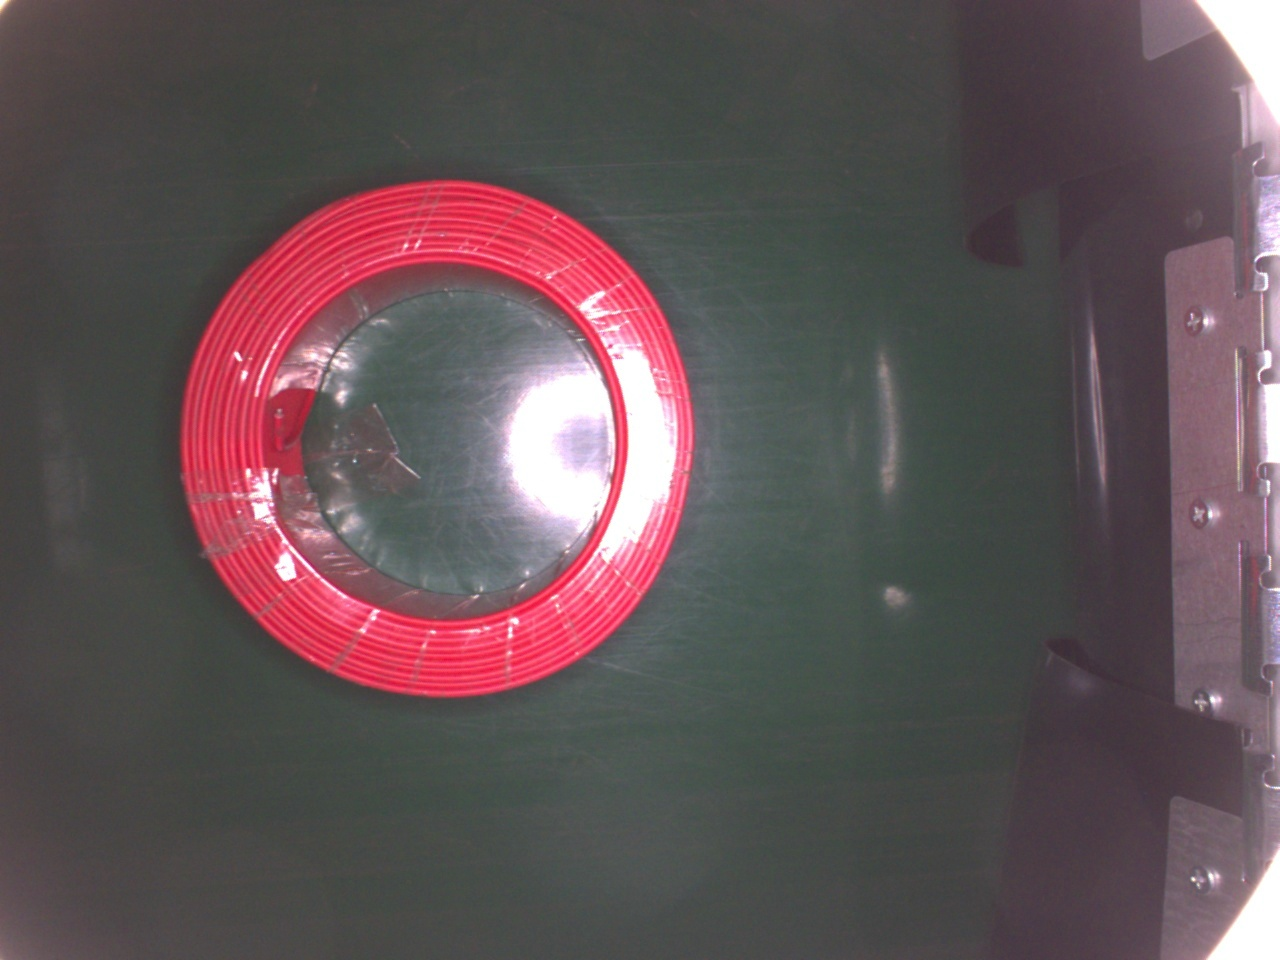red: (184, 176, 691, 698)
